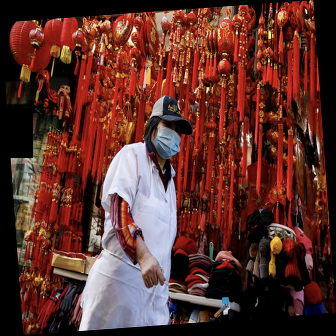with_mask: (69, 124, 113, 166)
